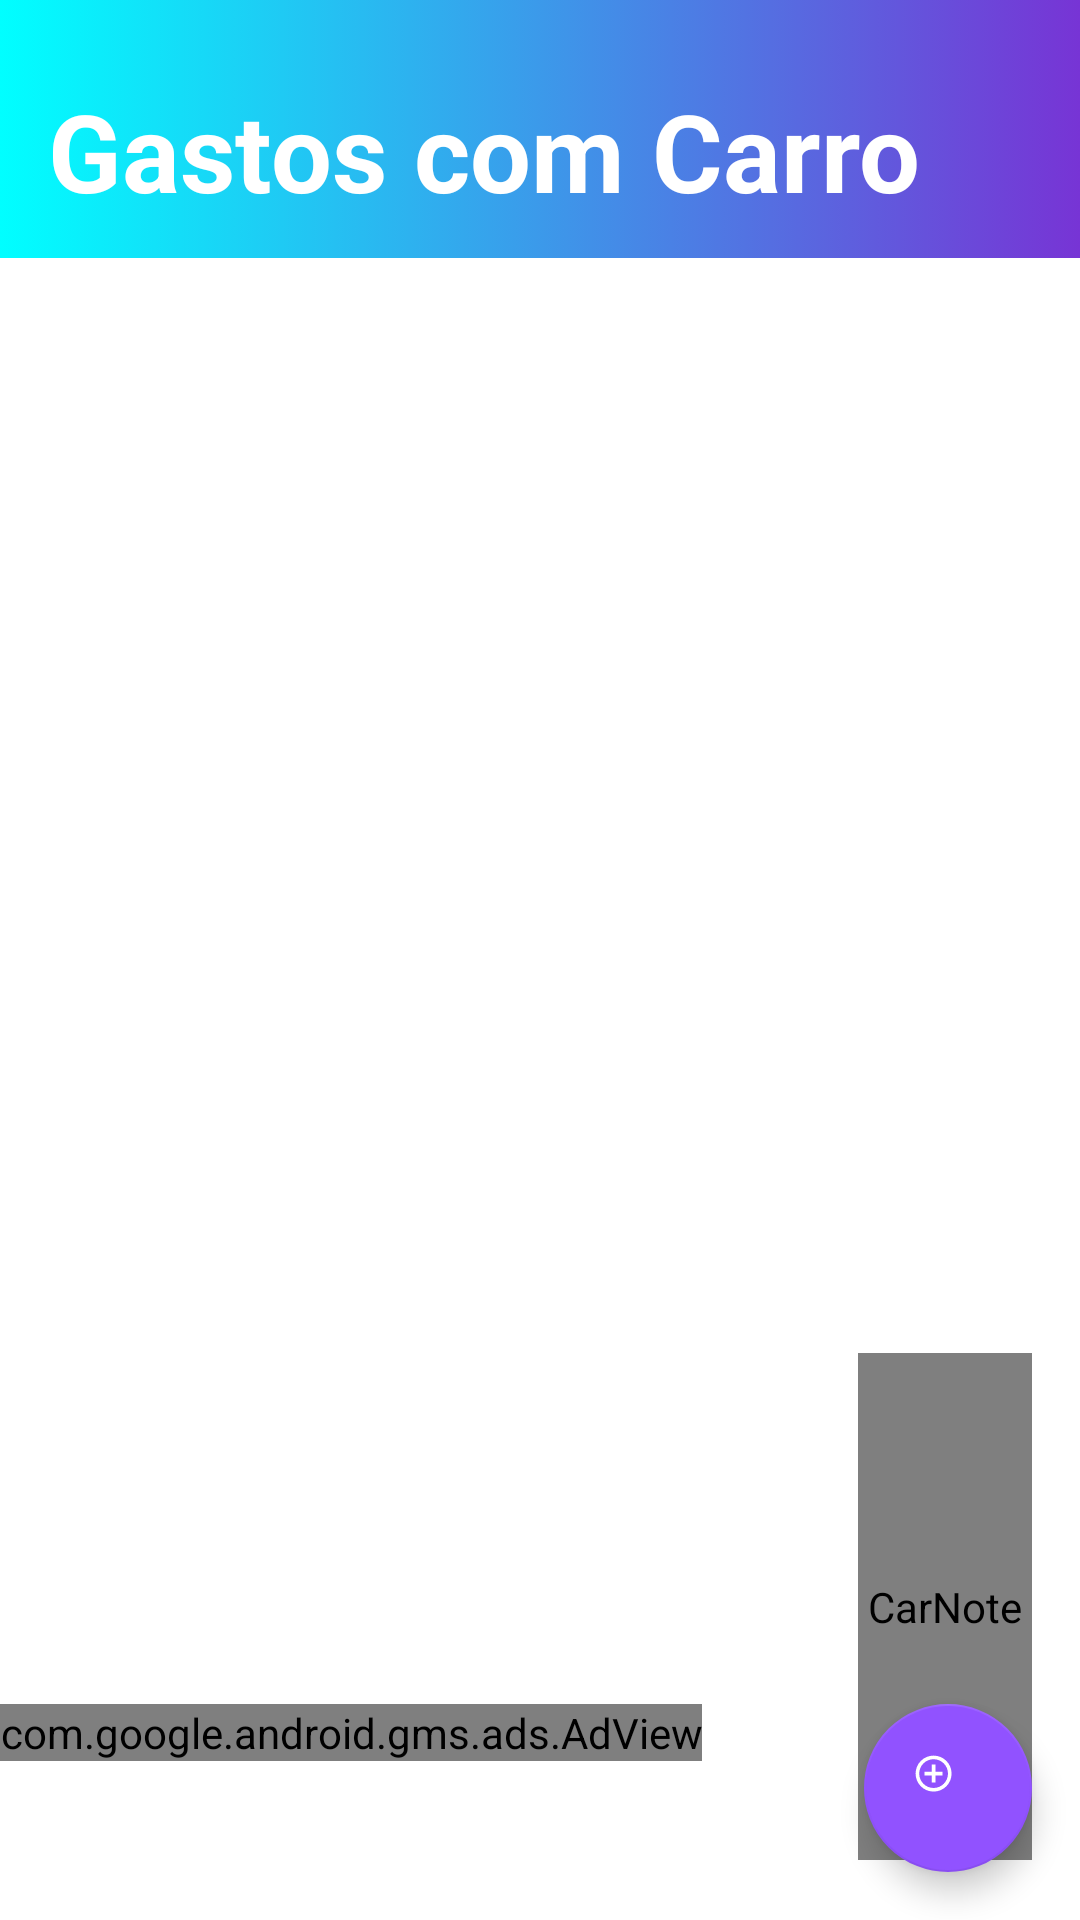

Where to tap for icons on this 1080w x 1920h app screen, as (x=x, y=y):
Adicionar gasto: (x=948, y=1788)
